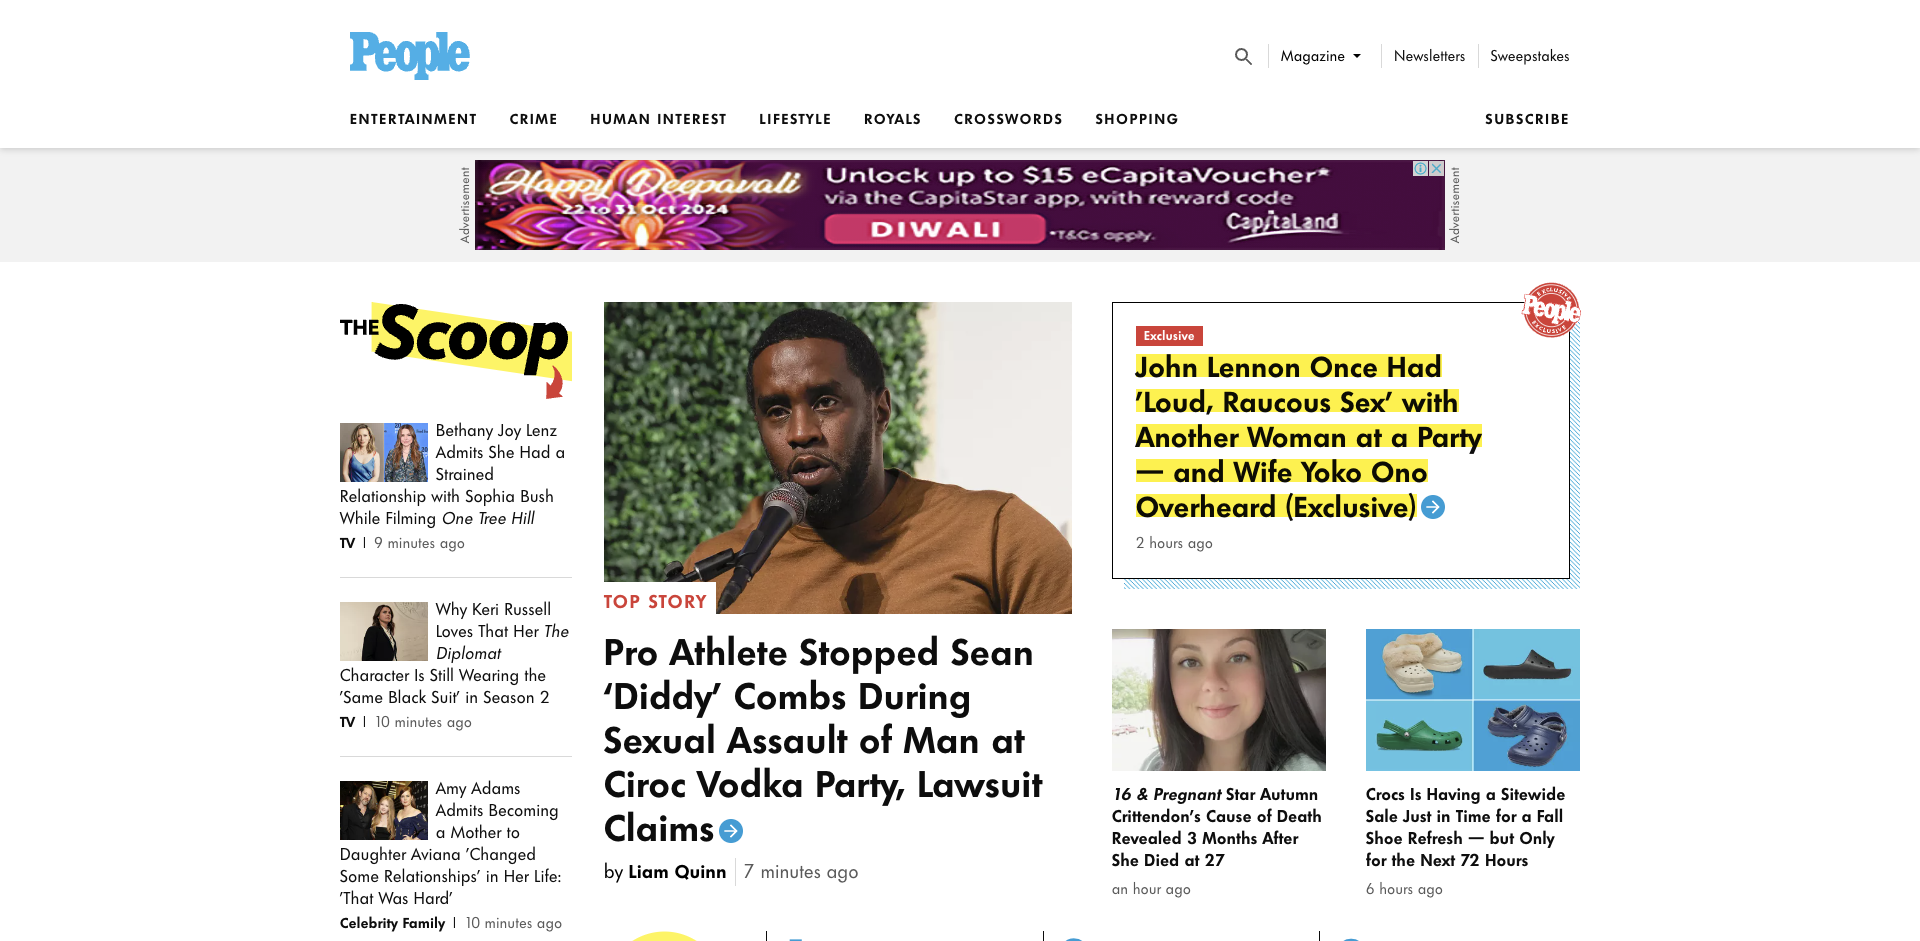button: (1281, 44, 1369, 67), (1395, 47, 1466, 66), (1232, 45, 1256, 69)
link: (604, 301, 1071, 899), (1112, 301, 1569, 577), (1112, 629, 1326, 899), (1367, 629, 1580, 899), (340, 777, 572, 909), (340, 419, 572, 529), (340, 598, 572, 708), (350, 32, 470, 80), (340, 780, 429, 841), (340, 423, 429, 482), (340, 602, 429, 660), (590, 110, 727, 127), (350, 110, 478, 127), (340, 913, 446, 932), (954, 110, 1064, 127), (1490, 47, 1570, 66), (1096, 110, 1180, 127), (1485, 110, 1570, 127), (759, 110, 833, 127), (864, 110, 922, 127), (509, 110, 558, 127), (340, 533, 355, 553), (340, 712, 355, 731)
menu_item: (1269, 44, 1369, 67), (1478, 44, 1570, 67), (1381, 44, 1466, 67), (1232, 43, 1256, 69)
